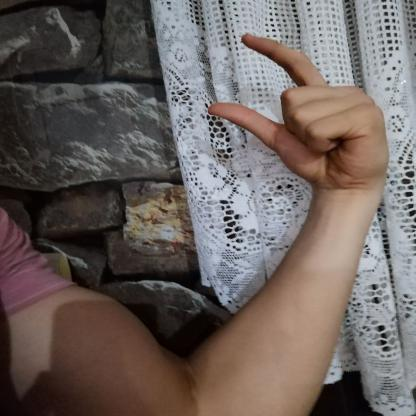DELL: (192, 25, 400, 198)
